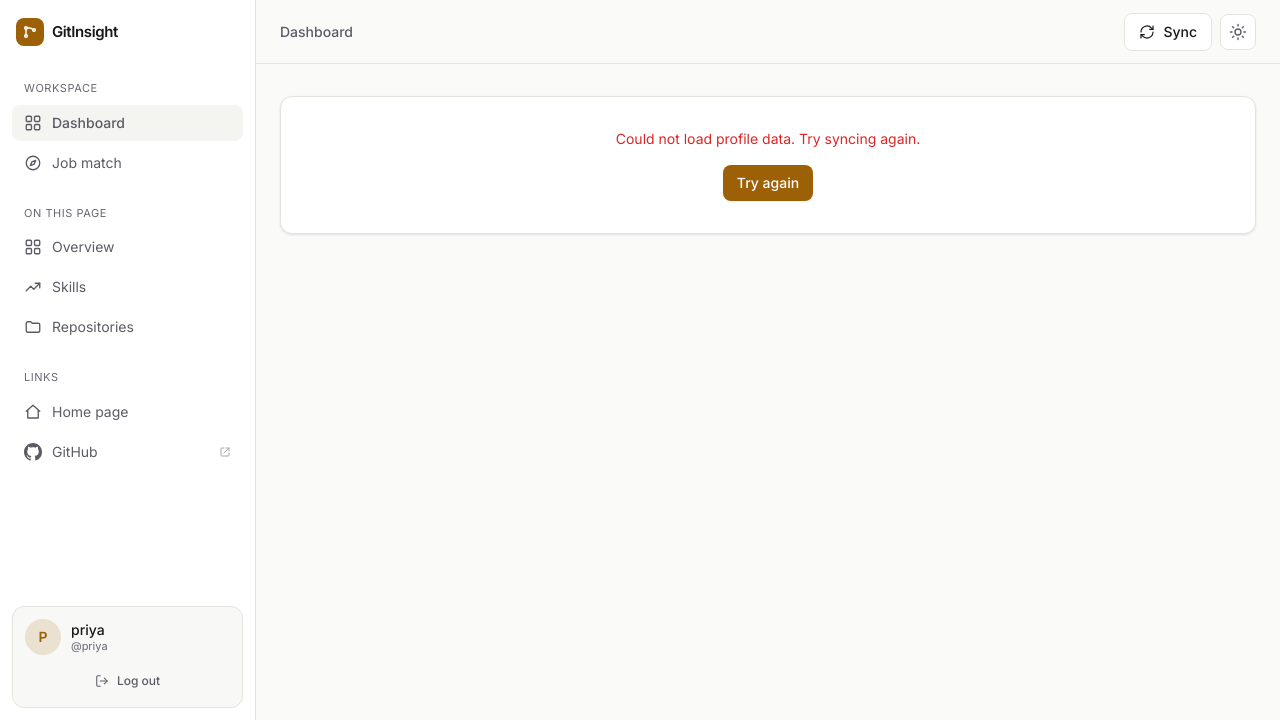
Scenario: Dashboard › shows a retry state when loading fails
expect the text "Could not load profile data. Try syncing again." is shown: met, box [616,130,920,147]
Click the button "Try again" at (768, 183), box [723,165,813,201]
(page scrolled)
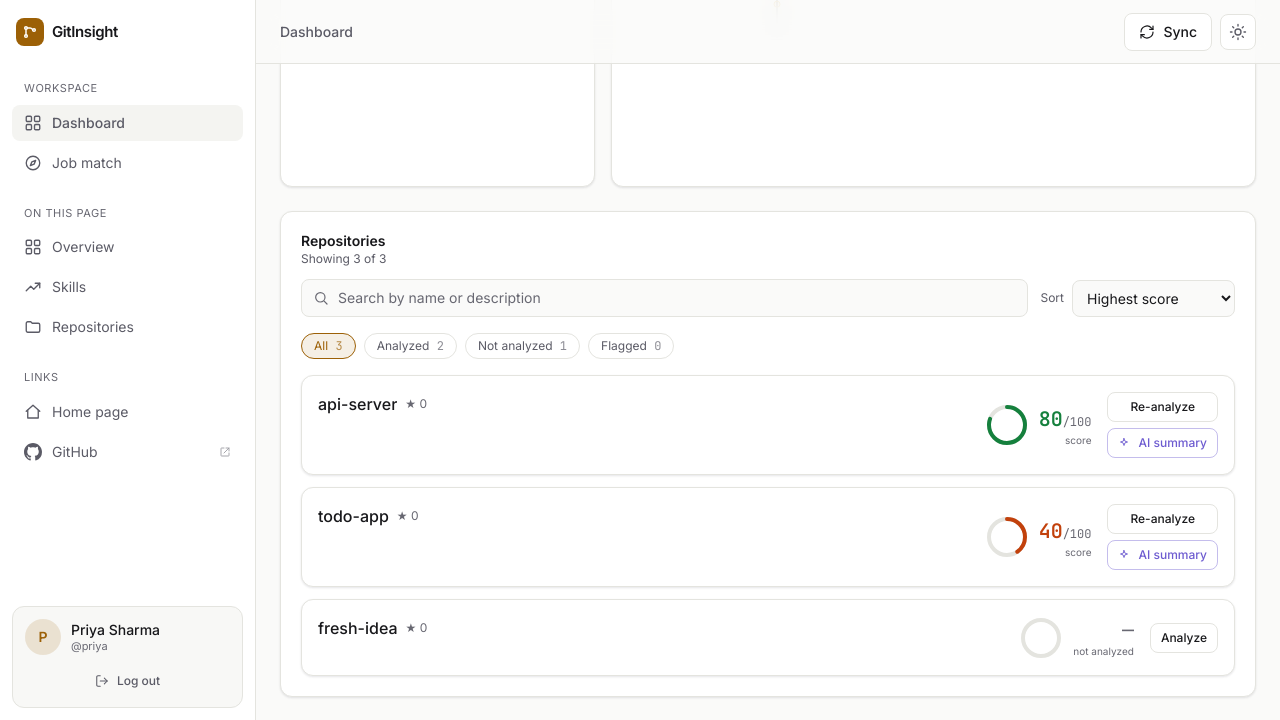
expect the heading "api-server" is shown: met, box [318,392,397,416]
